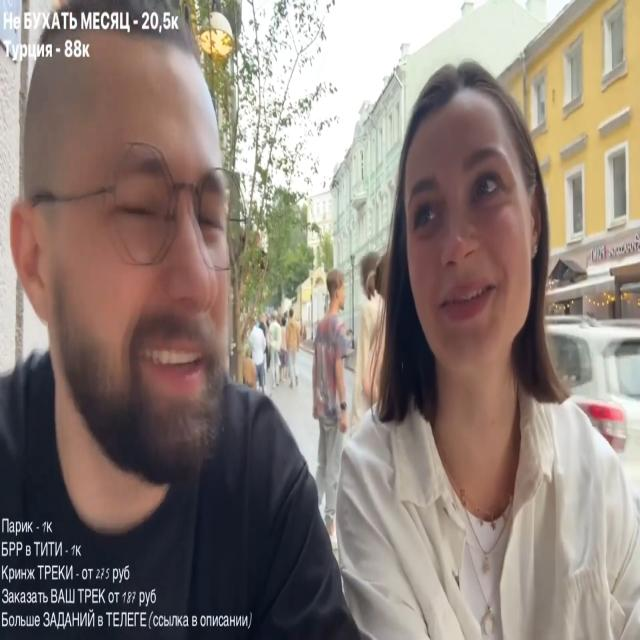Person: (0, 6, 371, 640), (284, 48, 640, 634), (311, 273, 351, 422), (248, 318, 270, 391), (280, 315, 301, 388), (266, 316, 286, 385)
